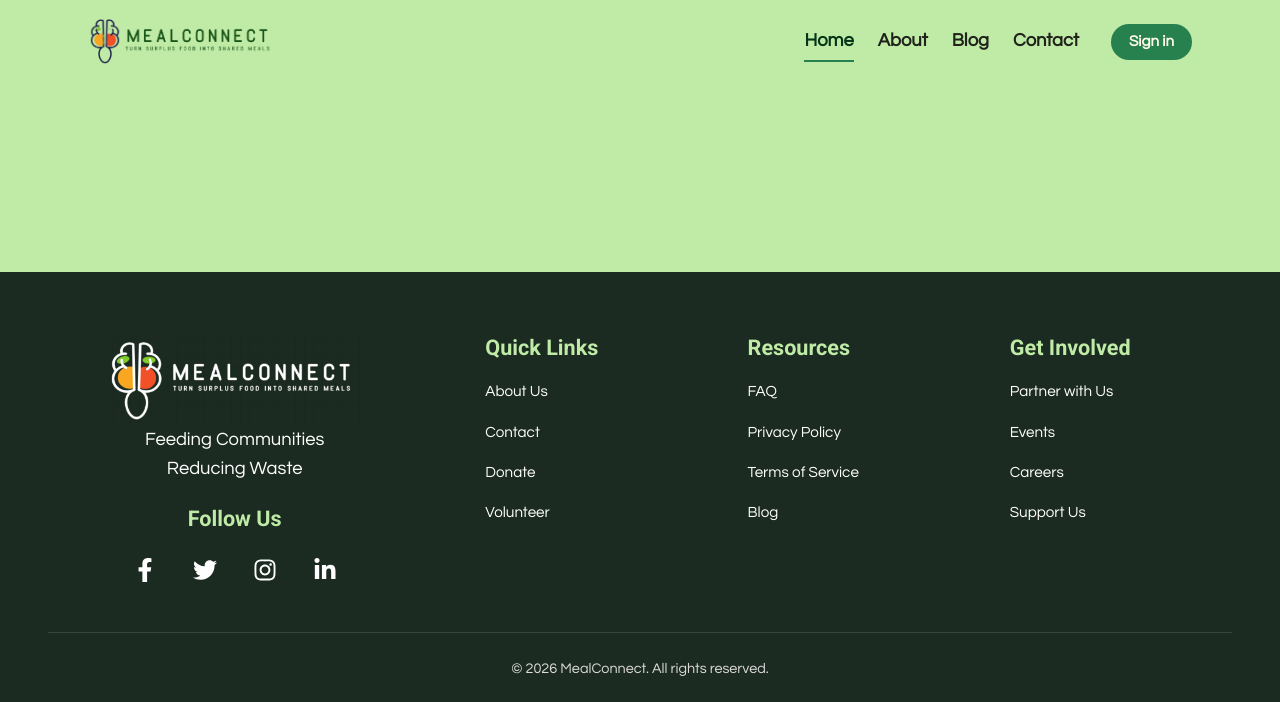
Test: footer navigation › footer link FAQ resolves to a real page
This screenshot has width=1280, height=702.
(page scrolled)
Click the link "FAQ" at (762, 392), box x1=748 y1=384 x2=777 y2=399
(page scrolled)
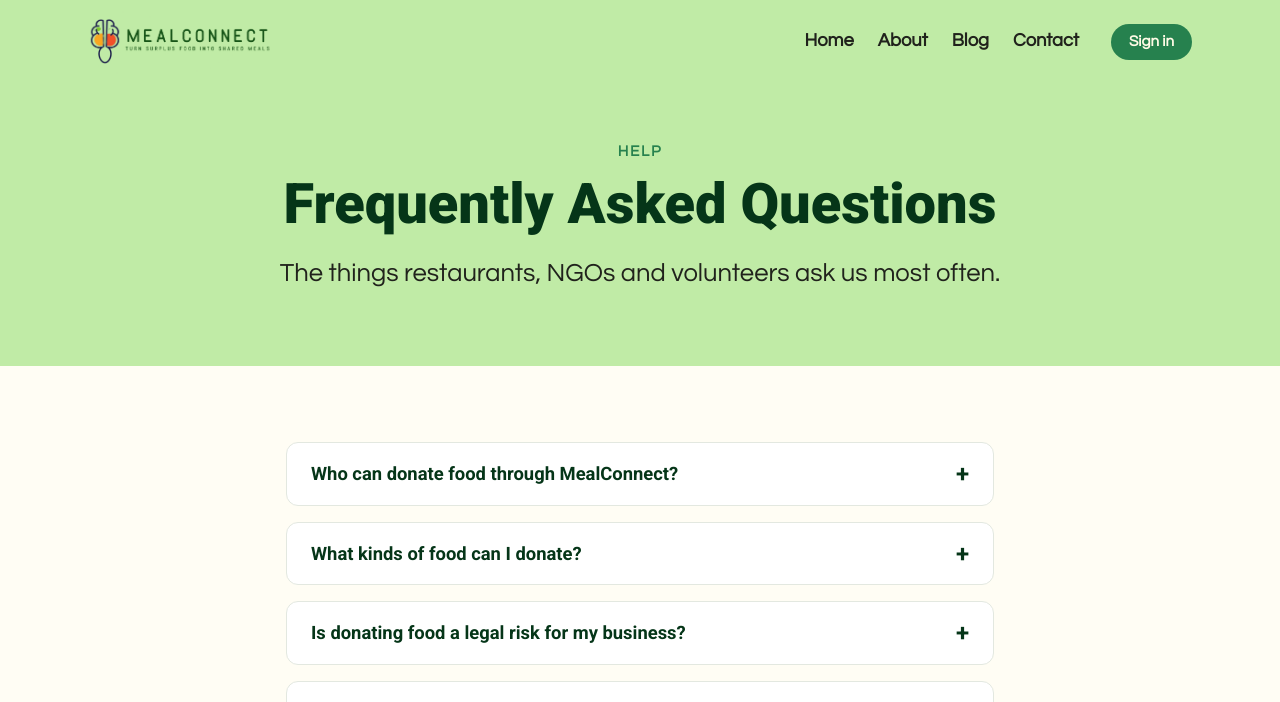
Expected: the heading "Frequently Asked Questions" is shown, x1=284 y1=171 x2=996 y2=237
